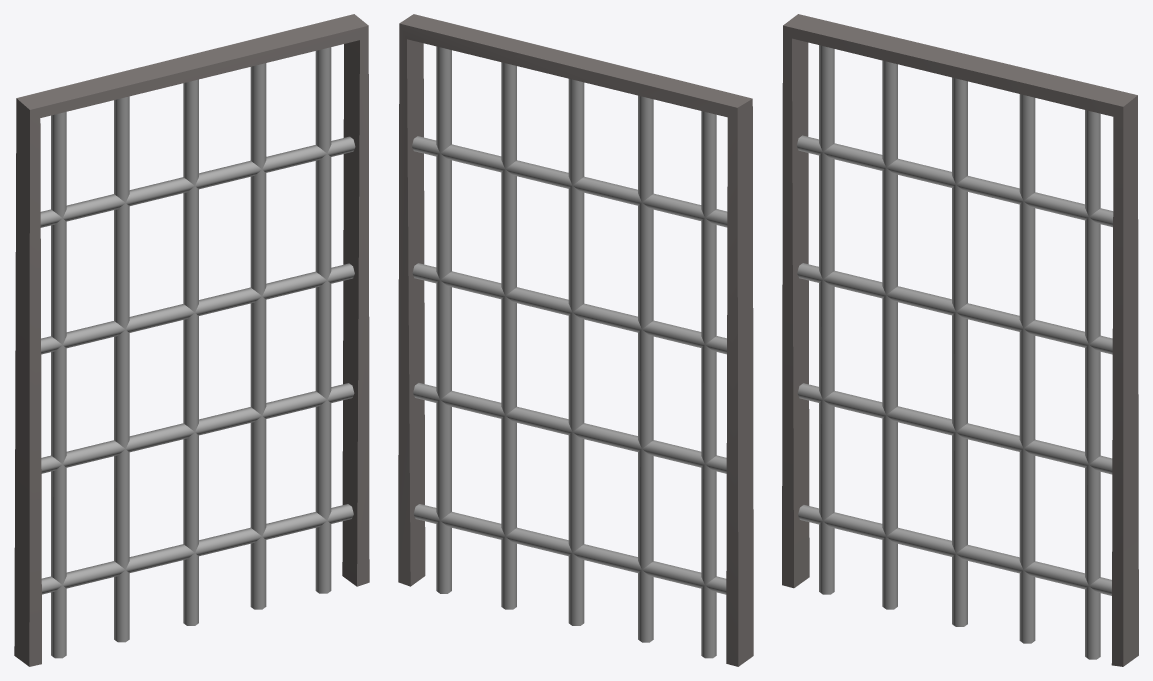
Rendered from SM_Door_C1.FBX.
3 views of the same model, side by side, from view 1: azimuth 30°, elevation 25°; view 2: azimuth 150°, elevation 25°; view 3: azimuth 330°, elevation 25° (orthographic).
Parts seen in each view (by area): view 1: SM_Door_C1; view 2: SM_Door_C1; view 3: SM_Door_C1.
Boxes of the visible parts, x1,y1,x2,y2 form: SM_Door_C1: (14, 14, 369, 666); SM_Door_C1: (398, 14, 753, 666); SM_Door_C1: (782, 14, 1138, 666).
Bounding box in the file's own units: 153 × 12.88 × 243.
